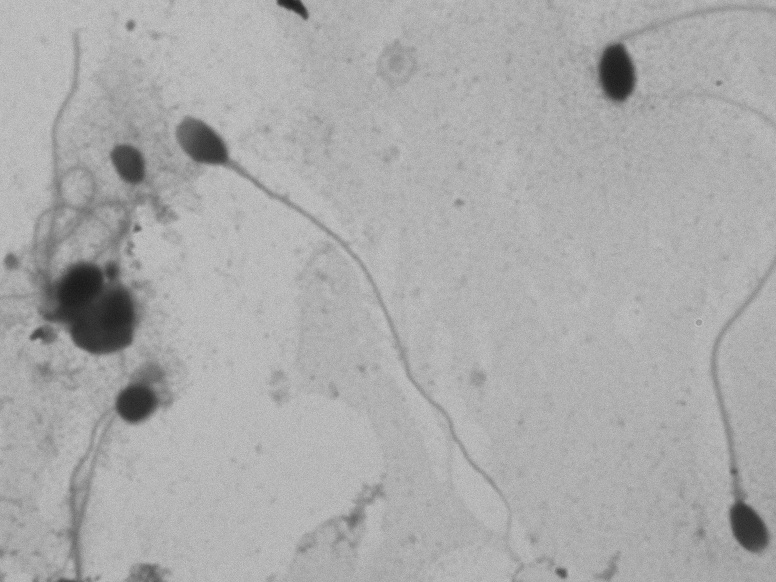Abnormal: (552, 13, 756, 131)
Normal: (174, 93, 546, 564)
